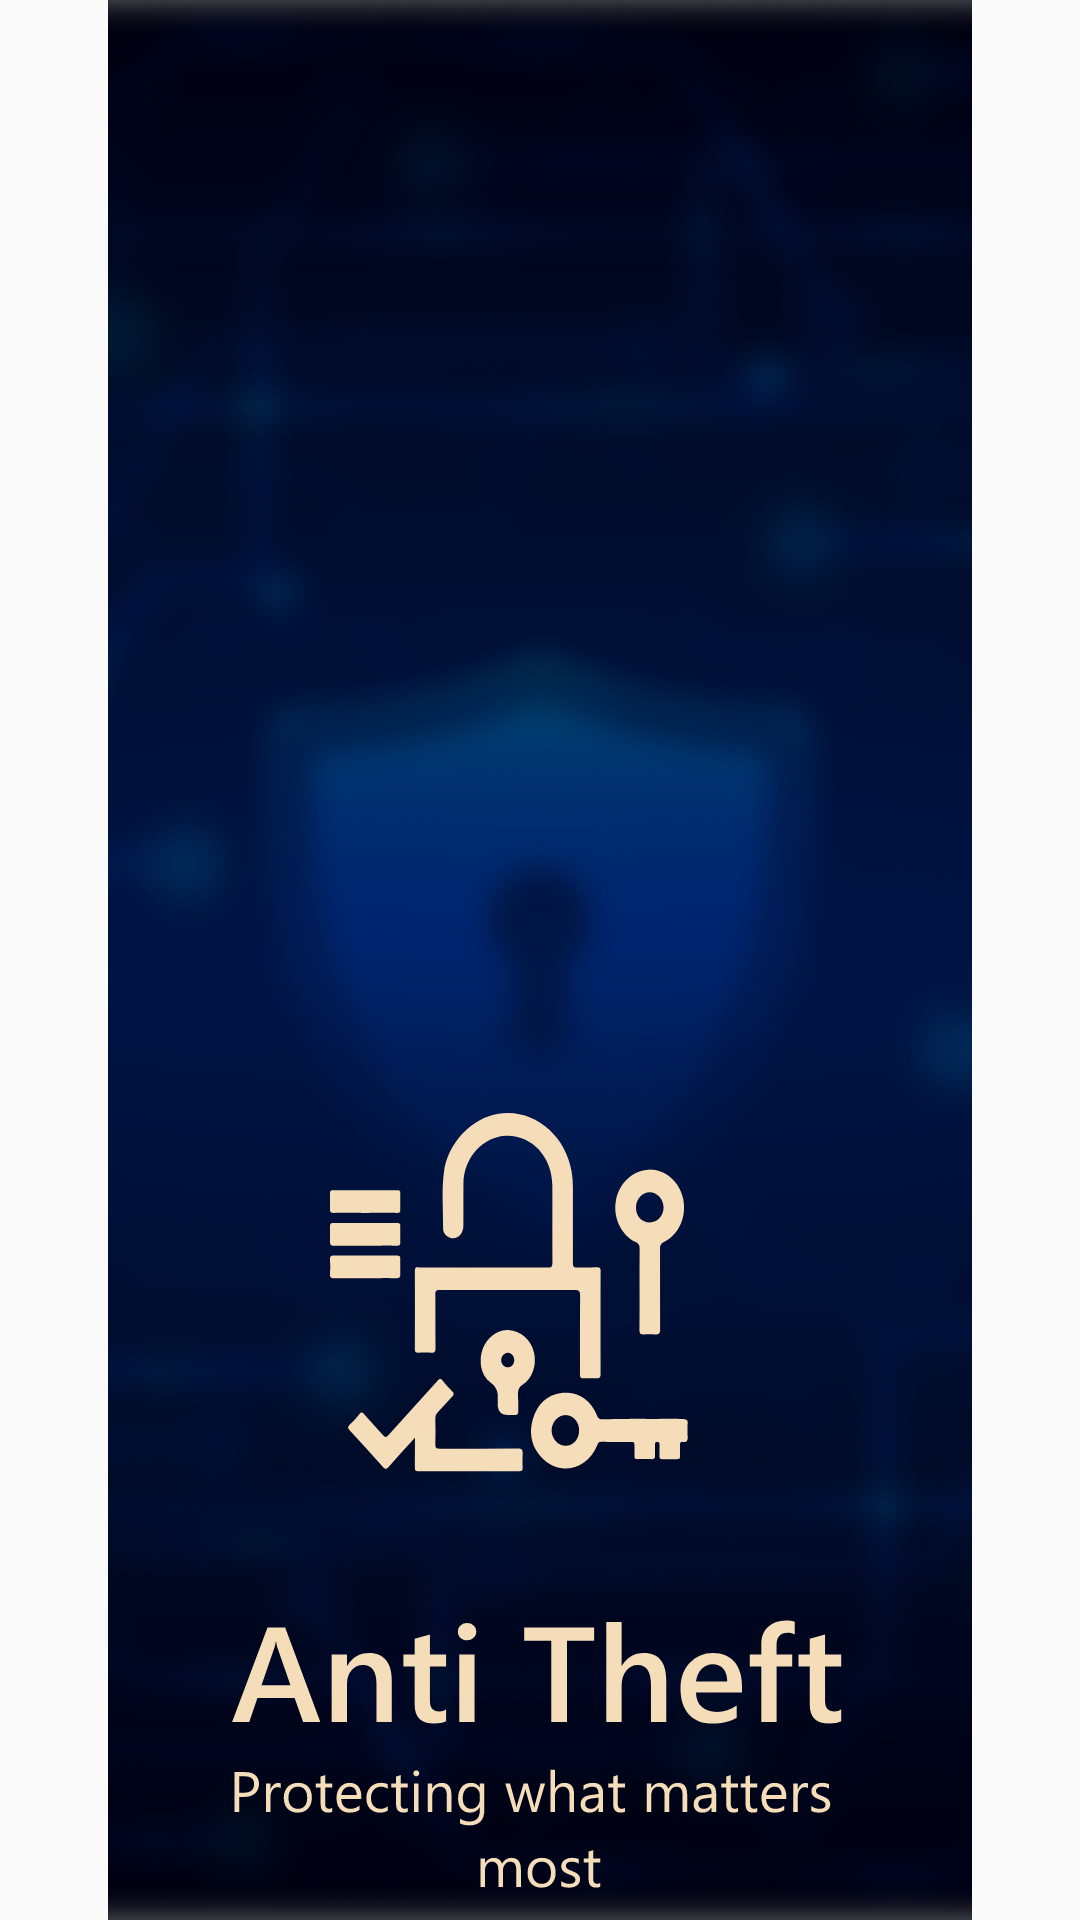

Icon click points for this 1080 x 1920 phone screenshot, format (x,y):
starting lock: (510,1293)
